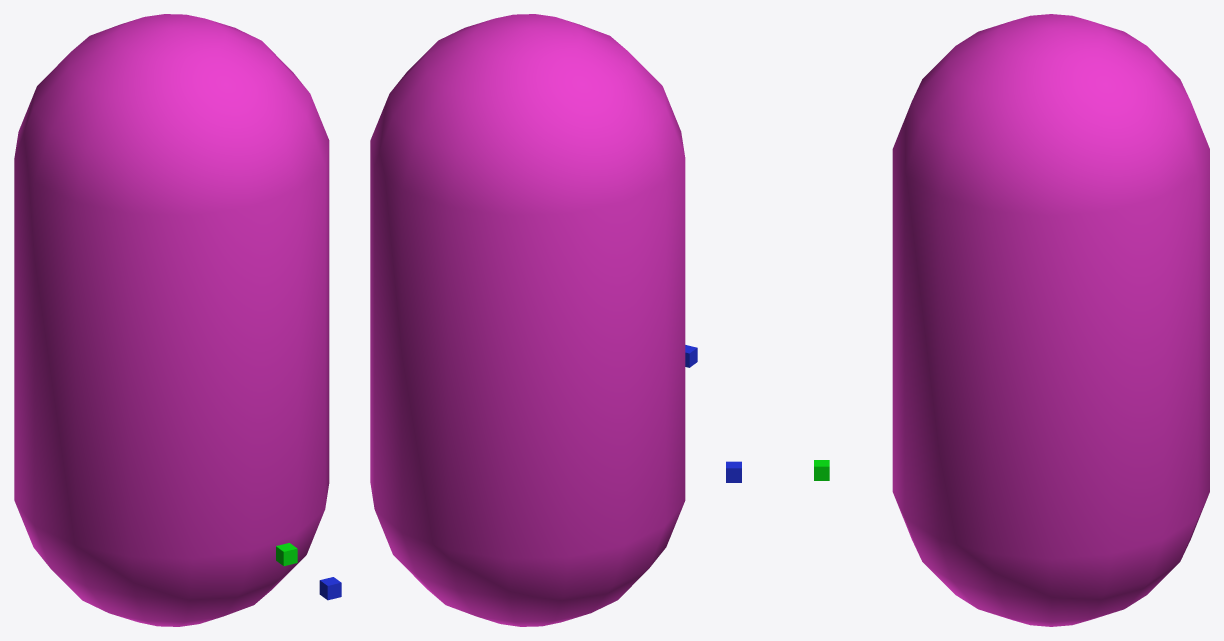
File: sceneDevoir3_v2.glb
The picture shows the model from 3 angles, left to right: view 1: azimuth 30°, elevation 25°; view 2: azimuth 150°, elevation 25°; view 3: azimuth 270°, elevation 25°; orthographic projection.
Parts seen in each view (by area): view 1: Capsule; view 2: Capsule; view 3: Capsule.
Boxes of the visible parts, box(x1,y1,x2,y2) form: Capsule: box(14, 14, 329, 626); Capsule: box(370, 14, 685, 626); Capsule: box(892, 14, 1209, 626).
Size of what is drawn, in the model's own units: 200 by 406 by 305.
